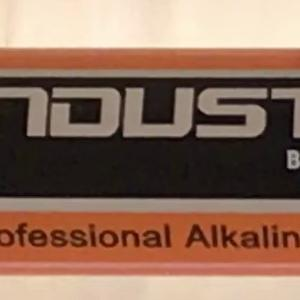ALK: (176, 215, 228, 258)
